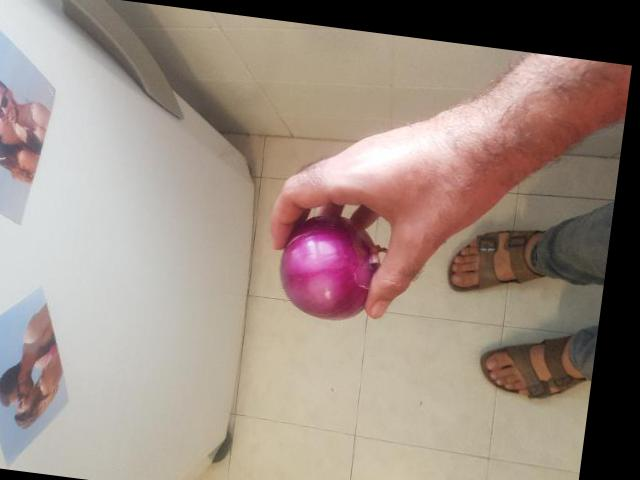onion: (271, 203, 395, 327)
